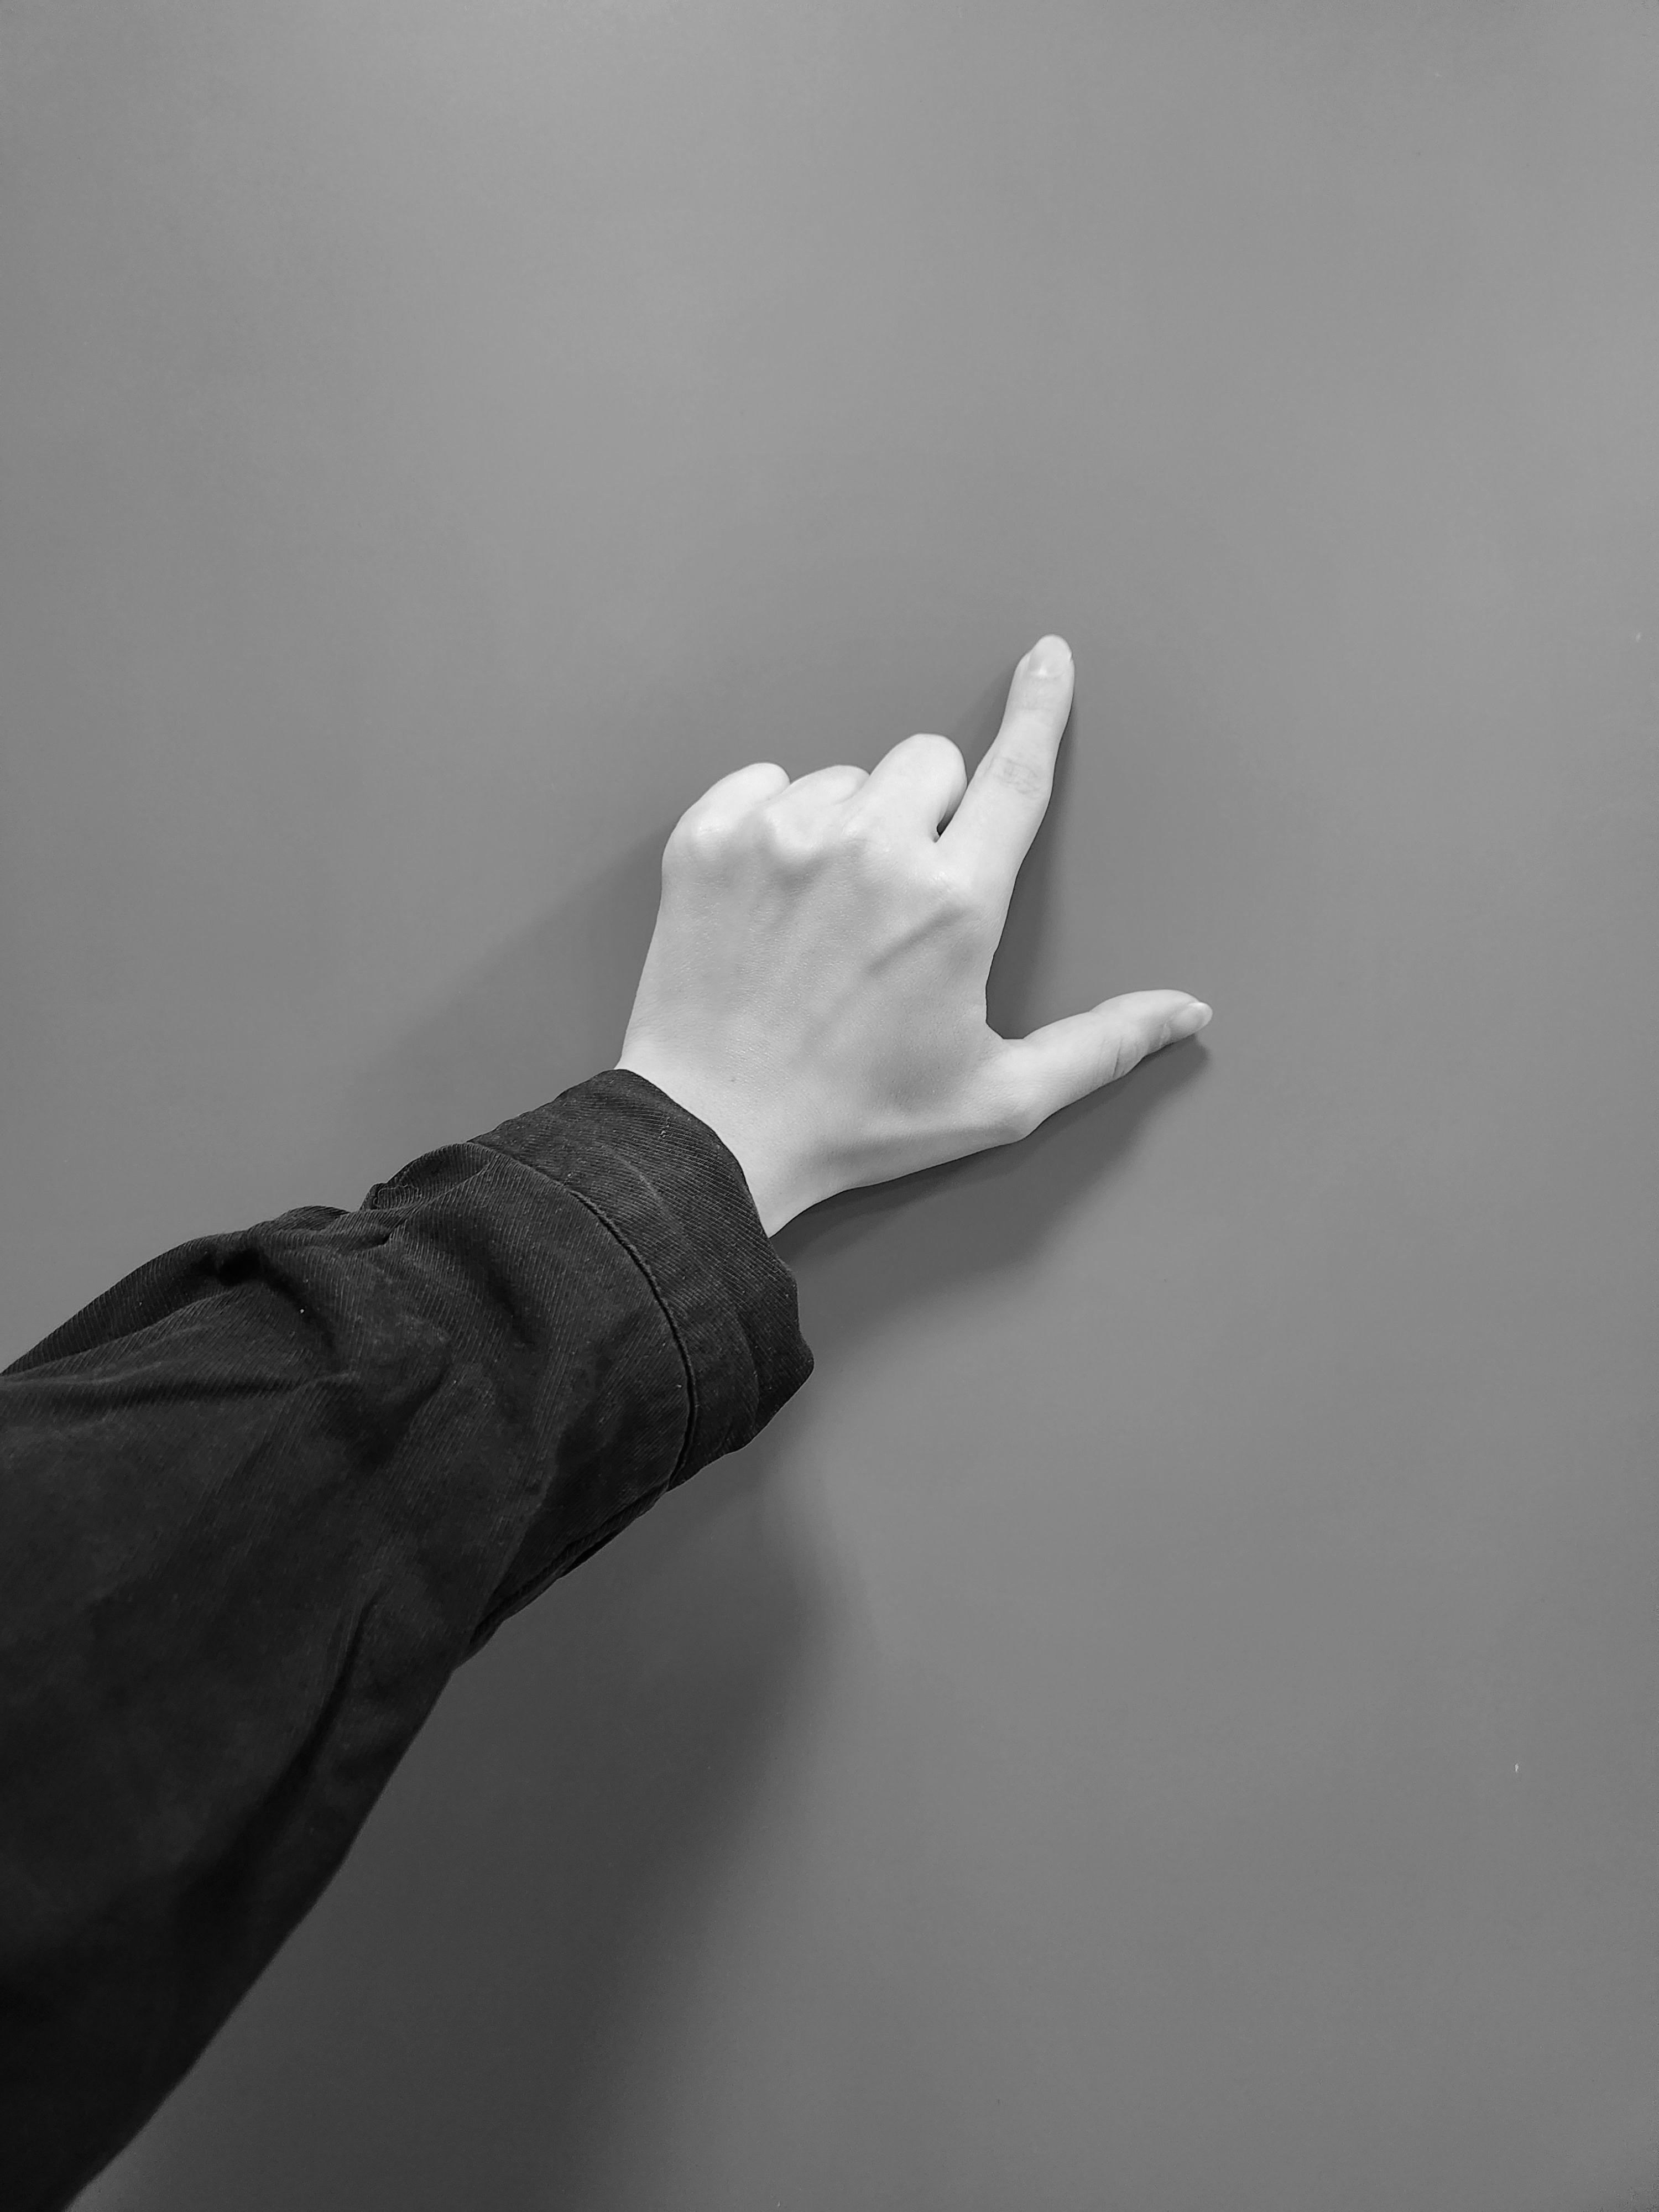pointing_gesture: (626, 632, 1213, 1150)
